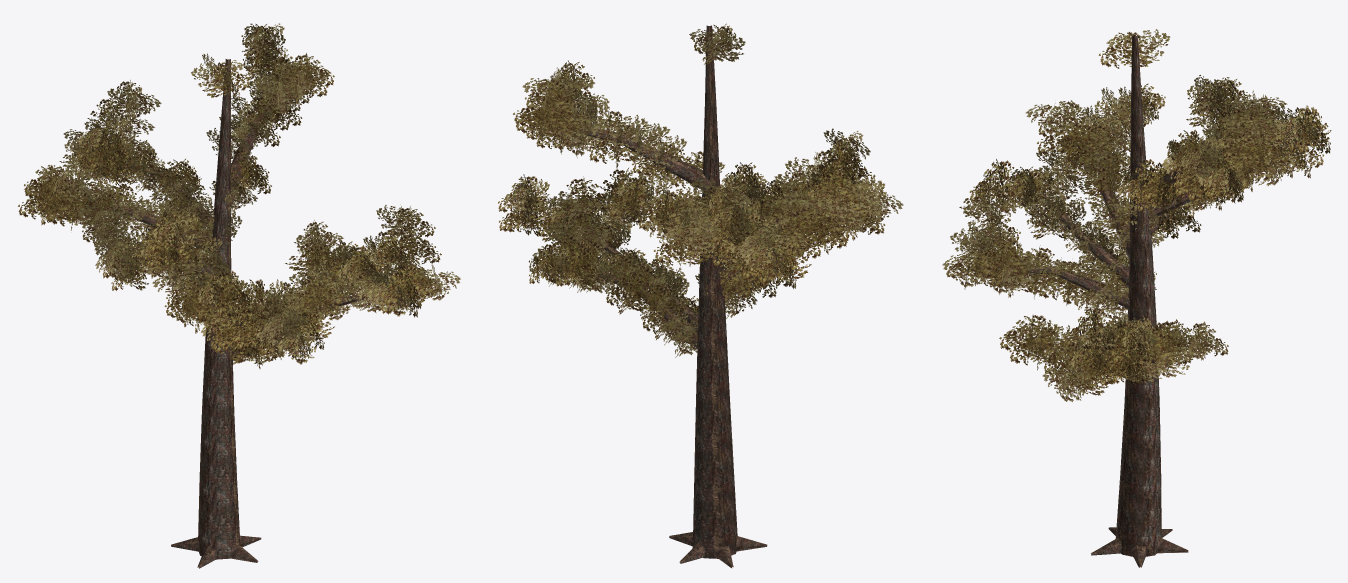
Rendered from tree_3d_05_golden_beige_lod1.glb.
3 views of the same model, side by side, from view 1: azimuth 30°, elevation 25°; view 2: azimuth 150°, elevation 25°; view 3: azimuth 270°, elevation 25° (orthographic). The views are drawn at different scales.
Visible parts, largest first — view 1: foliage_cards, wood_geometry; view 2: foliage_cards, wood_geometry; view 3: foliage_cards, wood_geometry.
Part boxes in pixels (x1=…): foliage_cards: x1=18, y1=23, x2=460, y2=369; wood_geometry: x1=71, y1=59, x2=428, y2=568; foliage_cards: x1=498, y1=23, x2=903, y2=357; wood_geometry: x1=540, y1=25, x2=843, y2=568; foliage_cards: x1=942, y1=29, x2=1331, y2=401; wood_geometry: x1=978, y1=35, x2=1281, y2=567.
Bounding box in the file's own units: 11.18 × 14.65 × 10.09.
2 materials, 2 textured.
